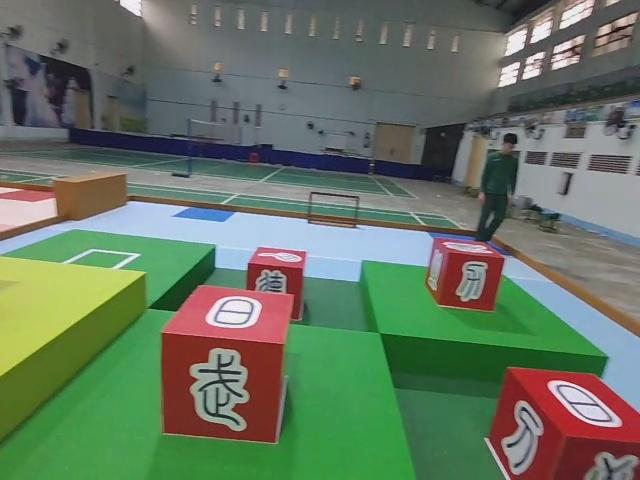R2 Fake: (161, 286, 293, 447), (487, 368, 640, 480), (428, 234, 504, 314), (247, 245, 307, 324)
